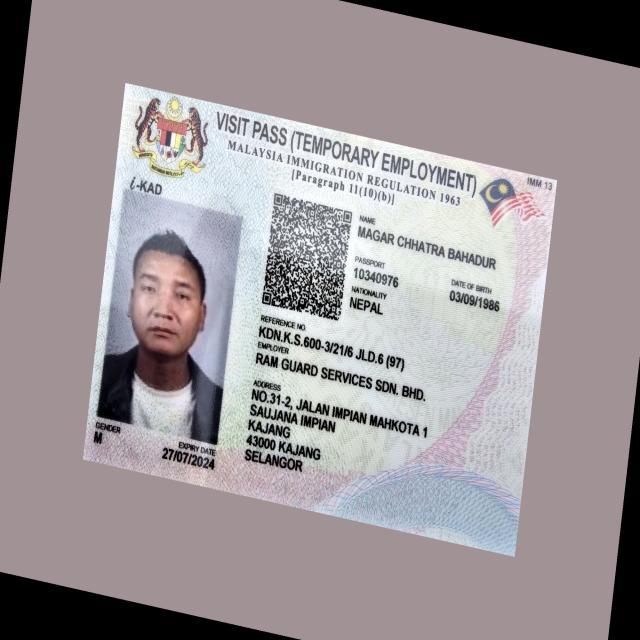ikad-temp: (82, 81, 558, 556)
